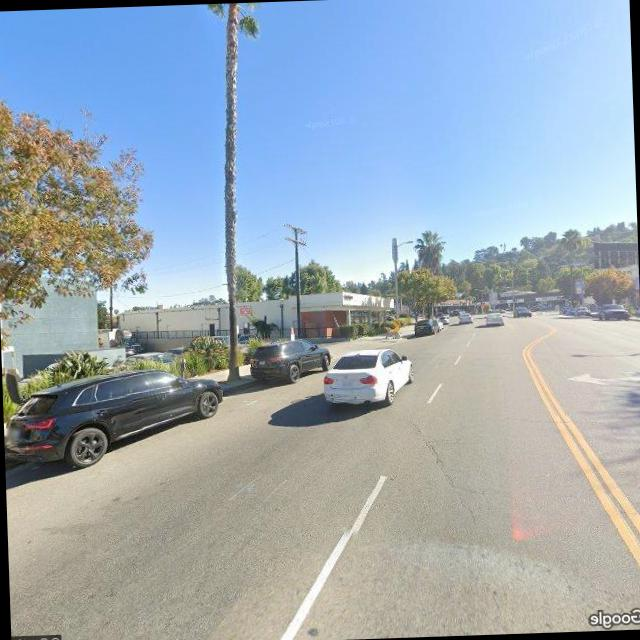crack: (410, 414, 480, 524)
